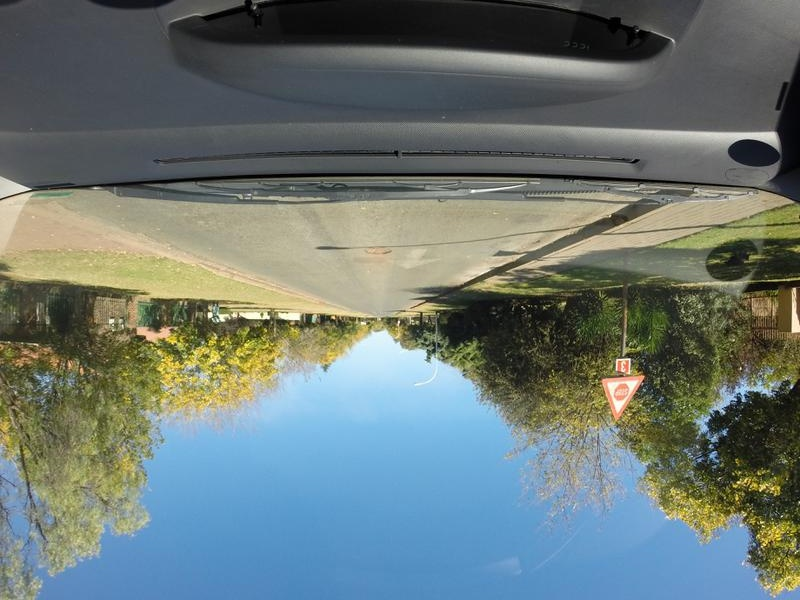pothole: (361, 244, 390, 255)
